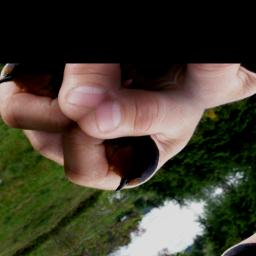Swallow: (78, 119, 177, 201)
